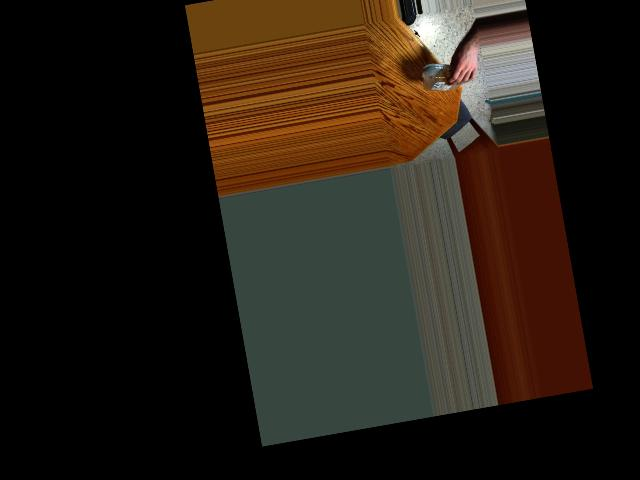cheese: (427, 54, 470, 94)
